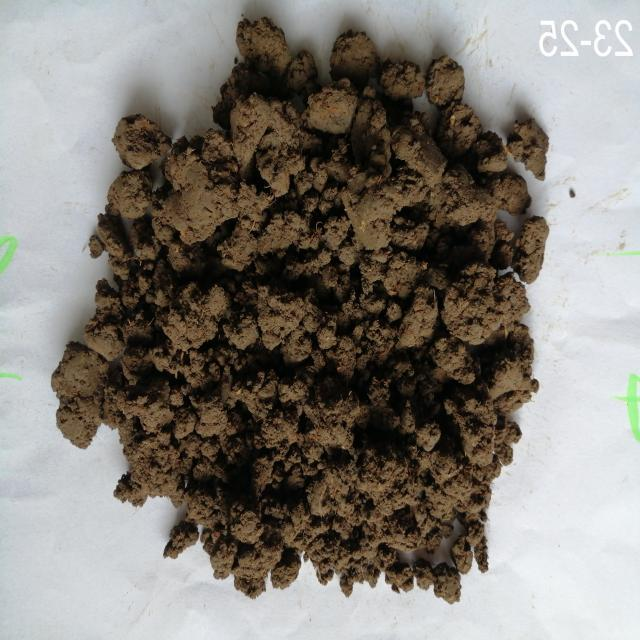soil: (229, 73, 452, 544)
